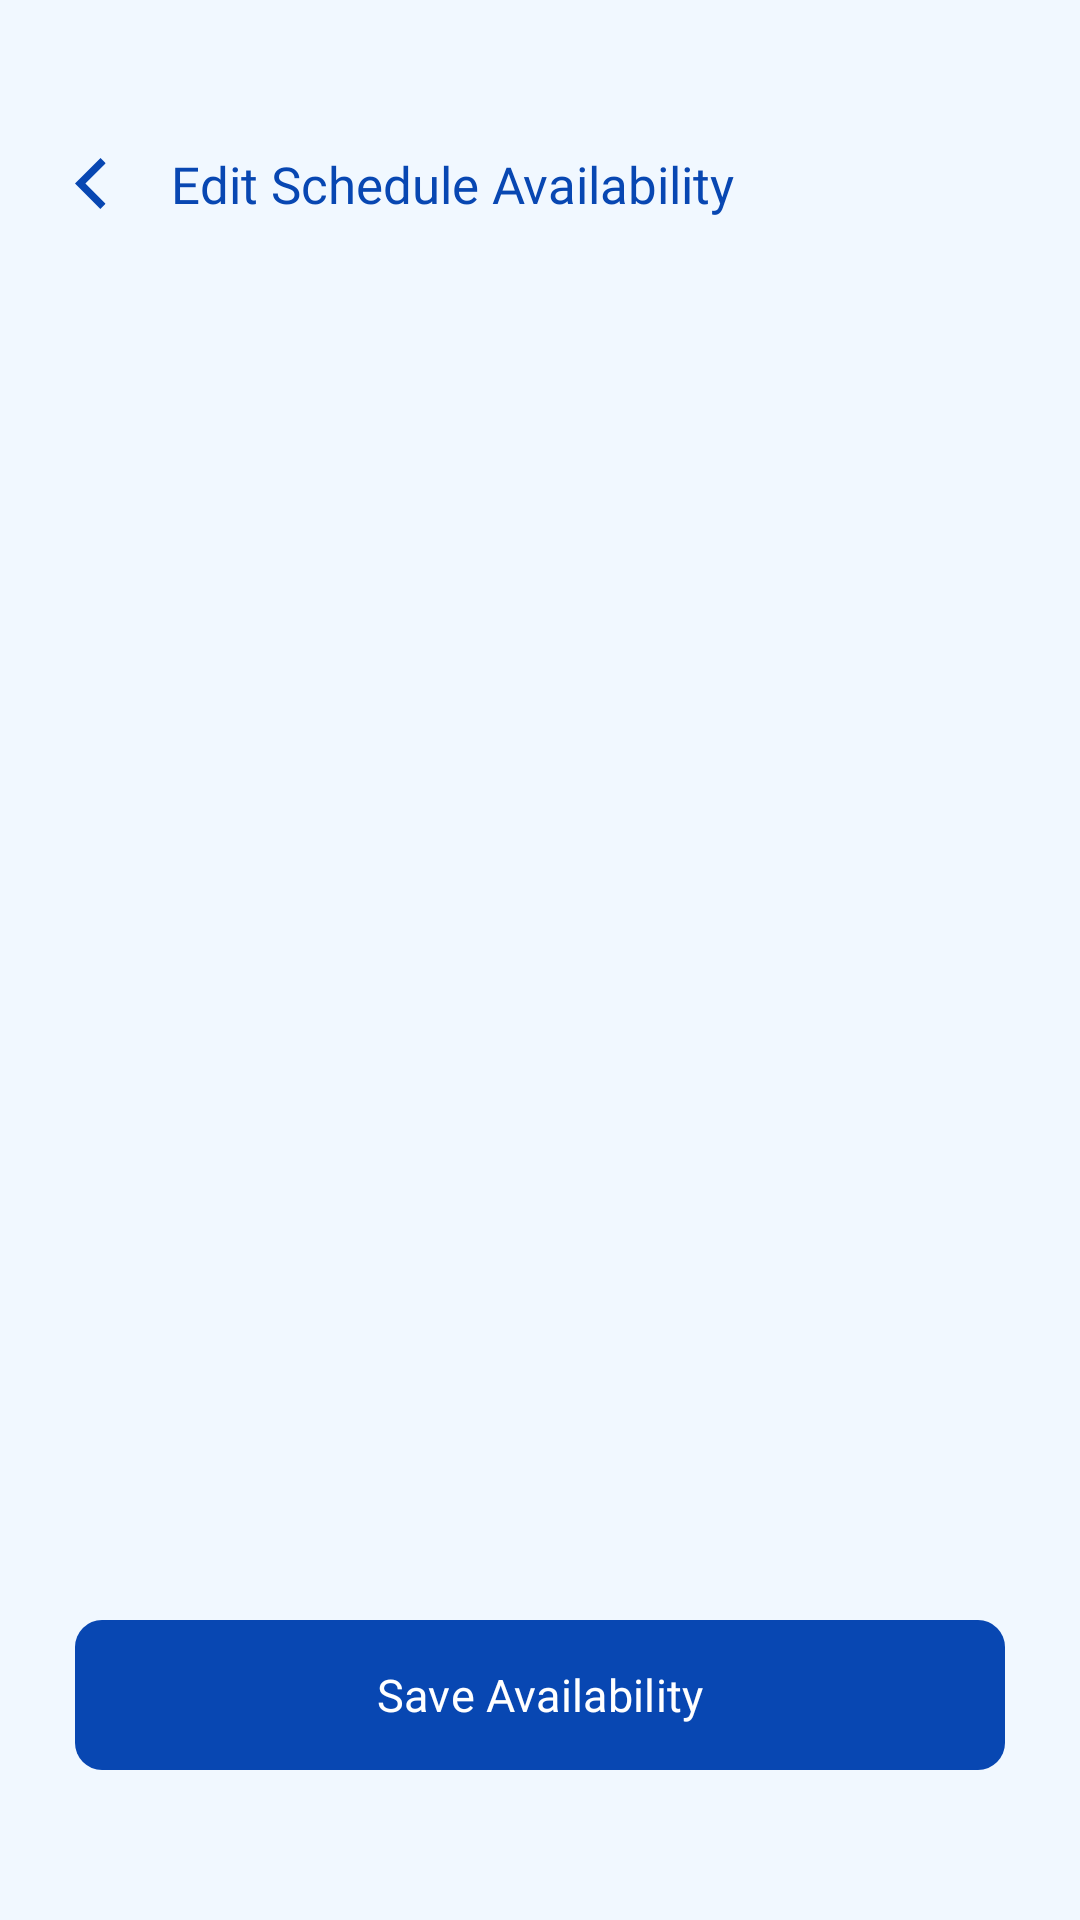

Where icons sit on this 1080px x 1920px app screen, as (x1, y1, x2, y2):
return: (75, 158, 106, 209)
